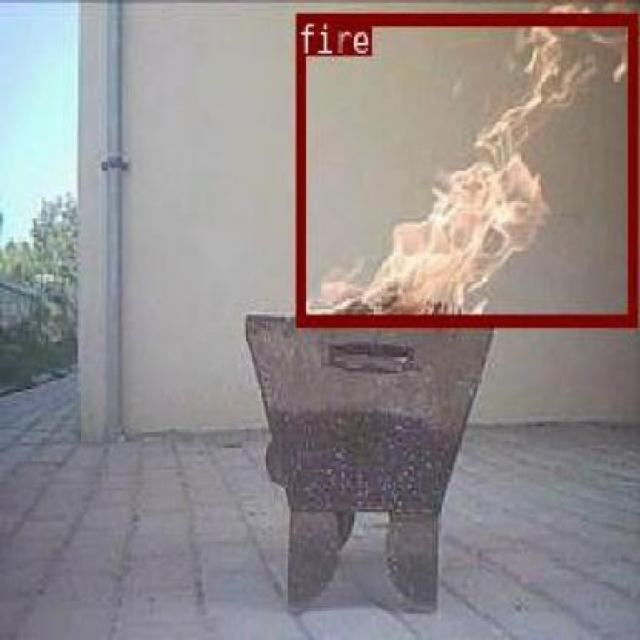Fire: (391, 30, 580, 306)
